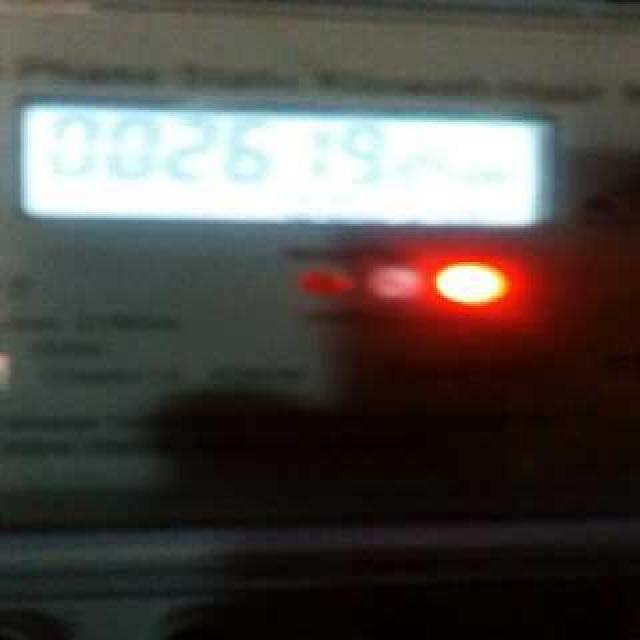LCD: (10, 91, 572, 238)
